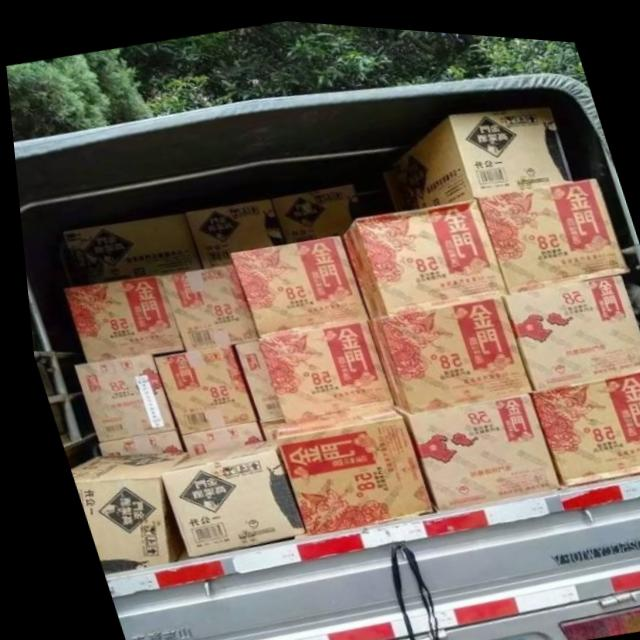box: (379, 98, 571, 205), (268, 399, 422, 531), (337, 191, 503, 313), (384, 385, 551, 505), (361, 289, 526, 408), (474, 169, 626, 287), (150, 435, 294, 554), (497, 265, 640, 382), (251, 314, 387, 419), (225, 230, 362, 334), (523, 359, 640, 477), (62, 450, 180, 564), (58, 272, 177, 362), (58, 210, 197, 285), (146, 341, 249, 431), (67, 351, 169, 441), (154, 261, 251, 348), (181, 194, 281, 265), (269, 178, 360, 239), (228, 336, 275, 417), (172, 417, 255, 454), (89, 428, 173, 454), (252, 415, 276, 436)
